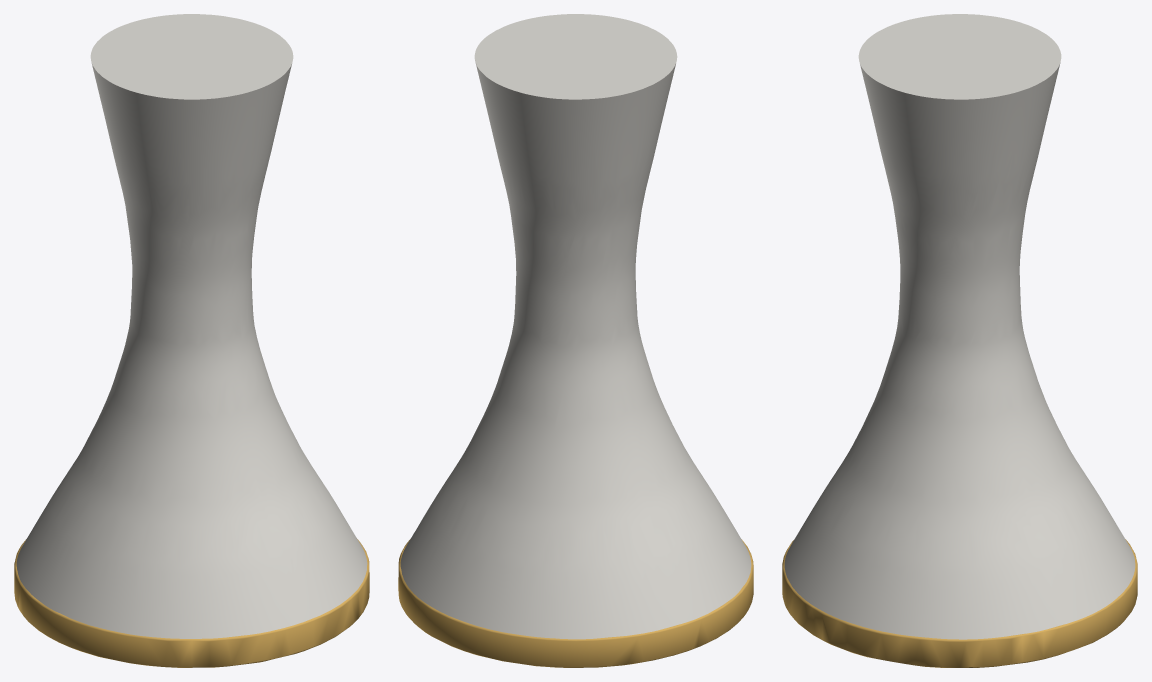
File: pawn-white.glb
3 renders of one model, left to right at view 1: azimuth 30°, elevation 25°; view 2: azimuth 150°, elevation 25°; view 3: azimuth 270°, elevation 25°, orthographic.
Visible parts, largest first — view 1: 01_pesec_telo_0, 01_pesec_podstavec; view 2: 01_pesec_telo_0, 01_pesec_podstavec; view 3: 01_pesec_telo_0, 01_pesec_podstavec.
Boxes of the visible parts, x1=… form: 01_pesec_telo_0: x1=16, y1=14, x2=367, y2=638; 01_pesec_podstavec: x1=14, y1=539, x2=369, y2=667; 01_pesec_telo_0: x1=400, y1=14, x2=751, y2=639; 01_pesec_podstavec: x1=398, y1=539, x2=753, y2=667; 01_pesec_telo_0: x1=784, y1=14, x2=1135, y2=639; 01_pesec_podstavec: x1=782, y1=539, x2=1137, y2=667.
Size of the model in its own units: 0.6895 by 1.15 by 0.6895.
